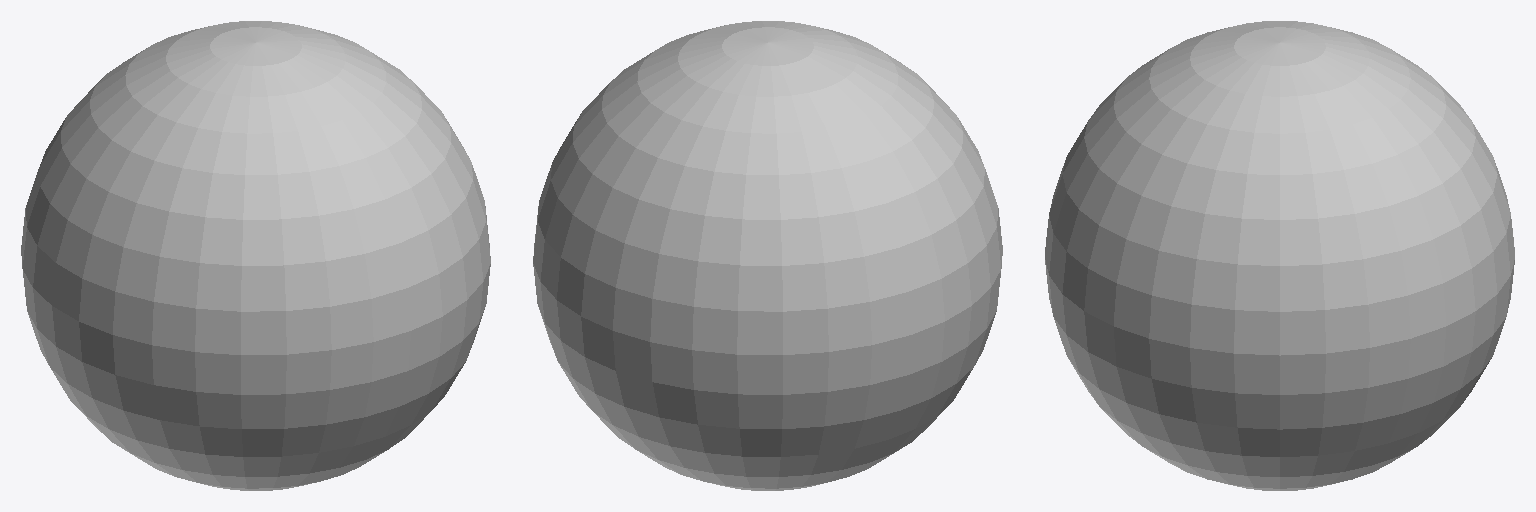
Rendered from particle.obj.
3 renders of one model, left to right at view 1: azimuth 30°, elevation 25°; view 2: azimuth 150°, elevation 25°; view 3: azimuth 270°, elevation 25°, orthographic.
Parts seen in each view (by area): view 1: 球; view 2: 球; view 3: 球.
Part boxes in pixels (x1,y1,x2,y2): 球: (21,21,490,490); 球: (533,21,1002,490); 球: (1045,21,1514,490).
Bounding box in the file's own units: 1 × 1 × 1.